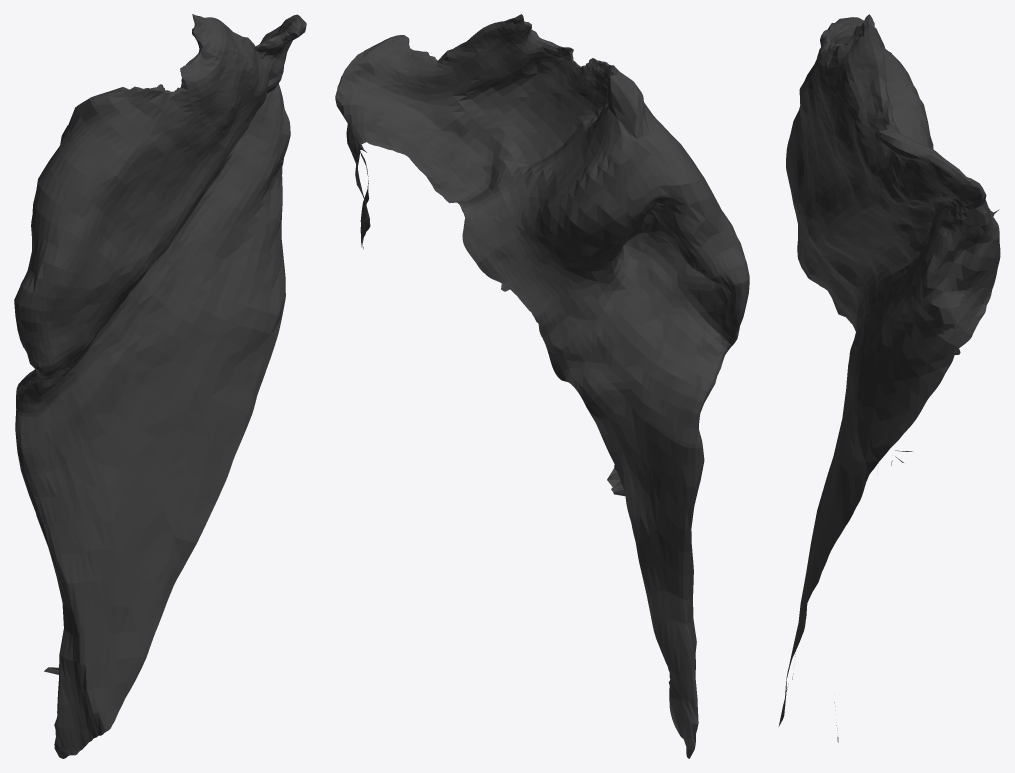
The model's file is Trapezius_cut_section.glb.
The picture shows the model from 3 angles, left to right: view 1: azimuth 30°, elevation 25°; view 2: azimuth 150°, elevation 25°; view 3: azimuth 270°, elevation 25°; orthographic projection. The views are drawn at different scales.
Visible parts, largest first — view 1: Trapezius_cut_section; view 2: Trapezius_cut_section; view 3: Trapezius_cut_section.
Boxes of the visible parts, x1=… form: Trapezius_cut_section: x1=14, y1=14, x2=306, y2=758; Trapezius_cut_section: x1=335, y1=14, x2=749, y2=758; Trapezius_cut_section: x1=778, y1=14, x2=1000, y2=742.
Size of the model in its own units: 0.1002 by 0.1989 by 0.0482.
1 material, 1 textured.
